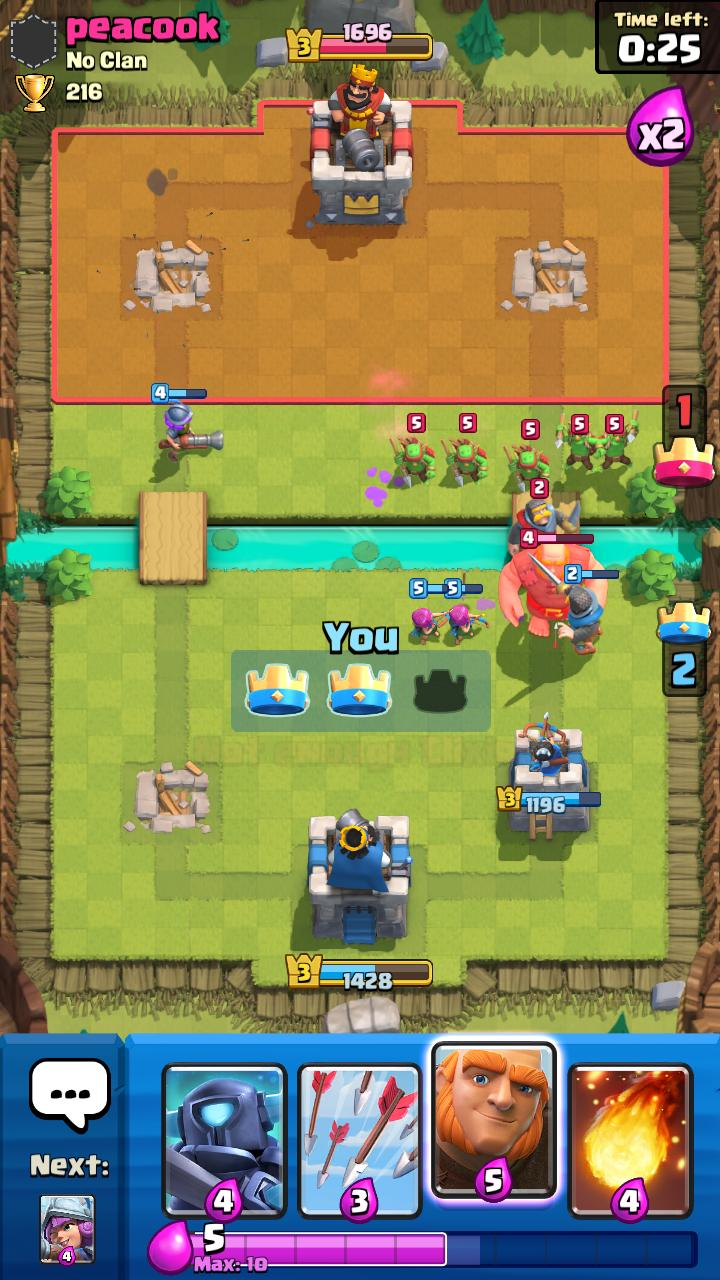ally: (527, 552, 619, 655), (151, 383, 224, 462), (444, 578, 490, 645), (409, 578, 453, 645)
enemy: (499, 528, 608, 637), (507, 478, 581, 556), (440, 413, 488, 487), (503, 419, 551, 493), (389, 413, 436, 487), (555, 413, 606, 472), (592, 410, 639, 471)
